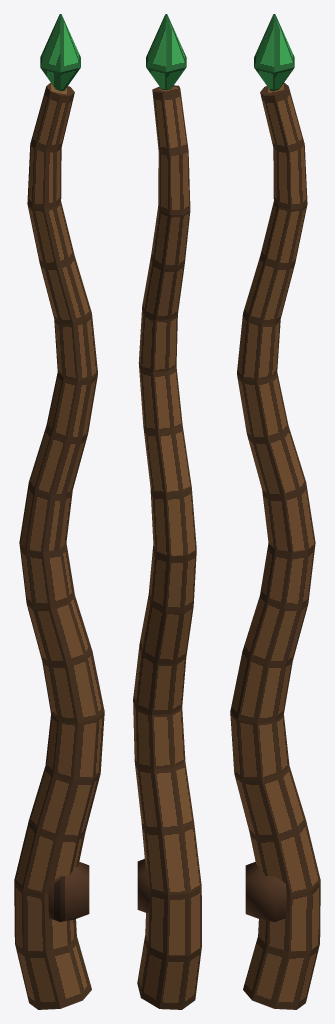
Rendered from rootwood_wand.glb.
3 renders of one model, left to right at view 1: azimuth 90°, elevation 25°; view 2: azimuth 210°, elevation 25°; view 3: azimuth 270°, elevation 25°, orthographic.
Visible parts, largest first — view 1: rootwood_wand; view 2: rootwood_wand; view 3: rootwood_wand.
Boxes of the visible parts, x1=… form: rootwood_wand: x1=14, y1=14, x2=104, y2=1009; rootwood_wand: x1=133, y1=14, x2=201, y2=1009; rootwood_wand: x1=230, y1=14, x2=320, y2=1009.
Size of the model in its own units: 0.0225 by 0.3705 by 0.0308.
1 material, 1 textured.
